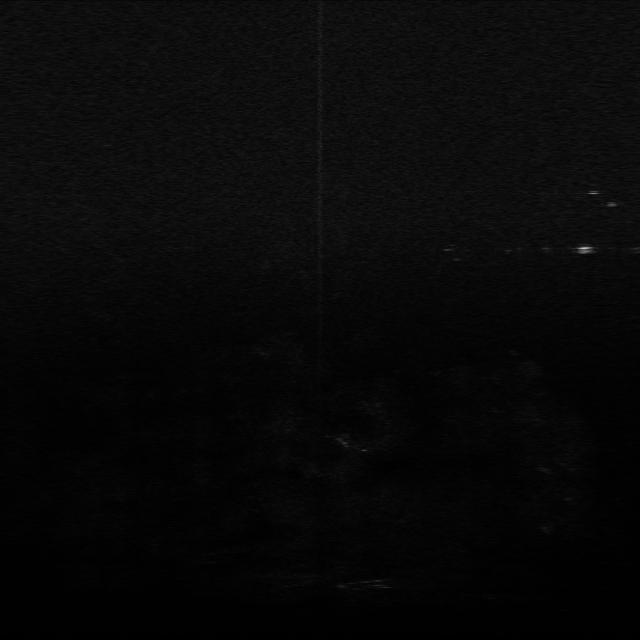rov: (573, 240, 599, 260)
